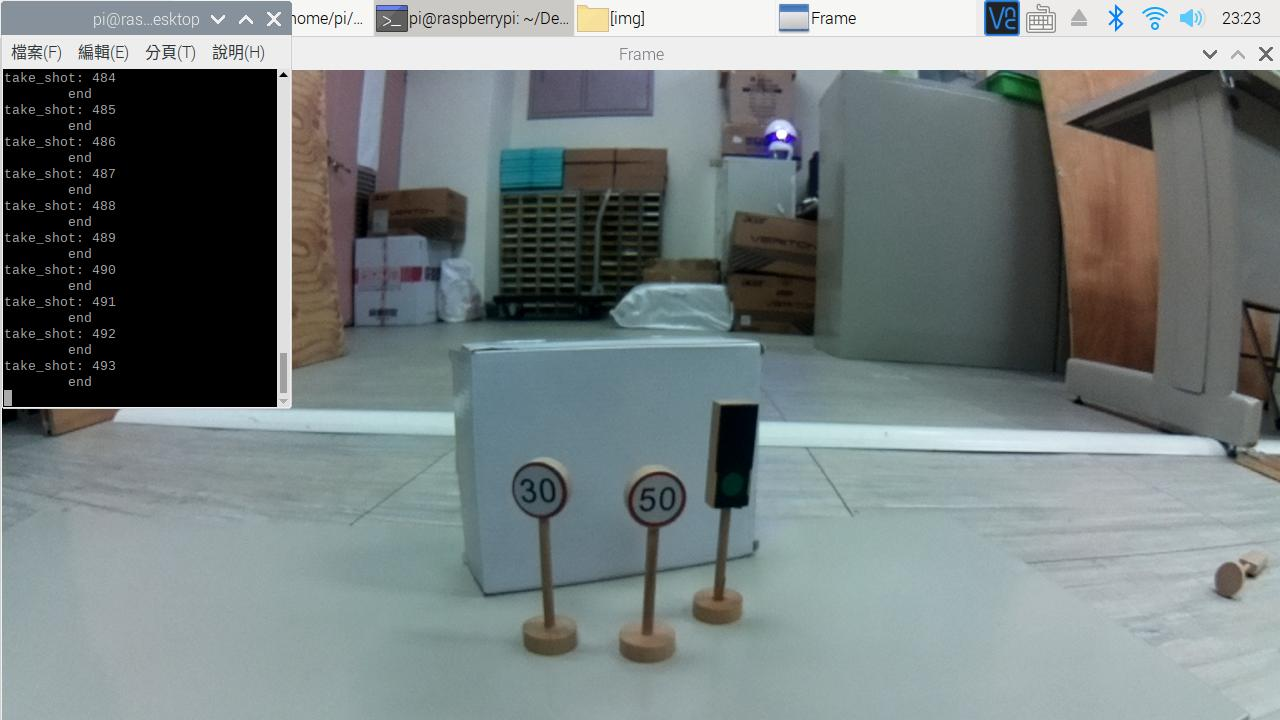Green: (700, 401, 765, 524)
Speed30: (503, 448, 572, 530)
Speed50: (629, 457, 689, 533)
